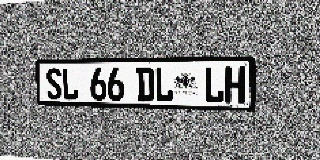6: (90, 68, 107, 101), (107, 68, 124, 101)
D: (136, 67, 154, 102)
H: (224, 67, 246, 103)
L: (204, 67, 224, 103), (155, 67, 173, 102), (61, 68, 78, 100)
S: (45, 68, 62, 100)
